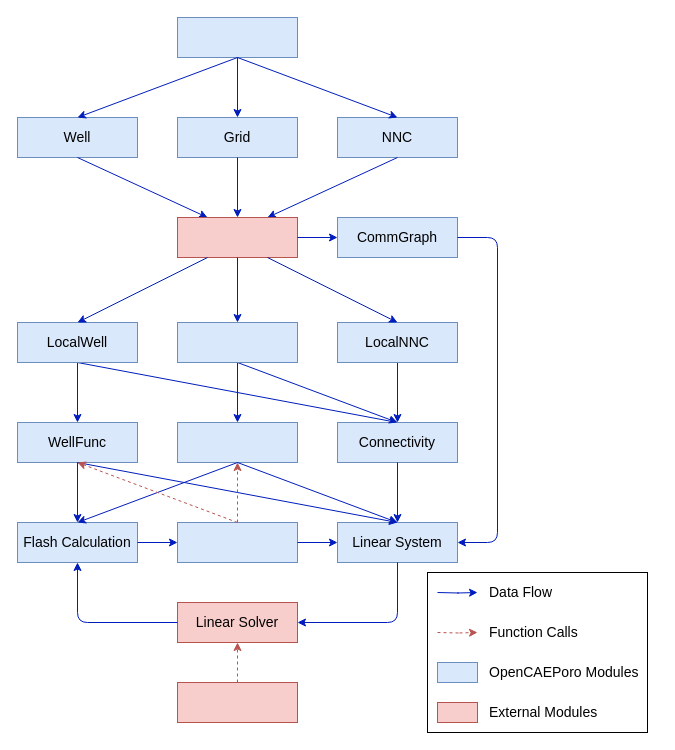
The diagram is 675 pixels wide and 750 high, and some of its shapes have lost their labels. The box of each missing label's shape, as (x1, y1, x2, y2) in pixels:
Grid Partitioner: (176, 216, 298, 258)
GridFunc: (176, 422, 298, 462)
Input Processor: (176, 16, 298, 58)
LocalGrid: (176, 322, 298, 362)
Sparse BLAS: (176, 682, 298, 722)
Update Solution: (176, 522, 298, 562)
